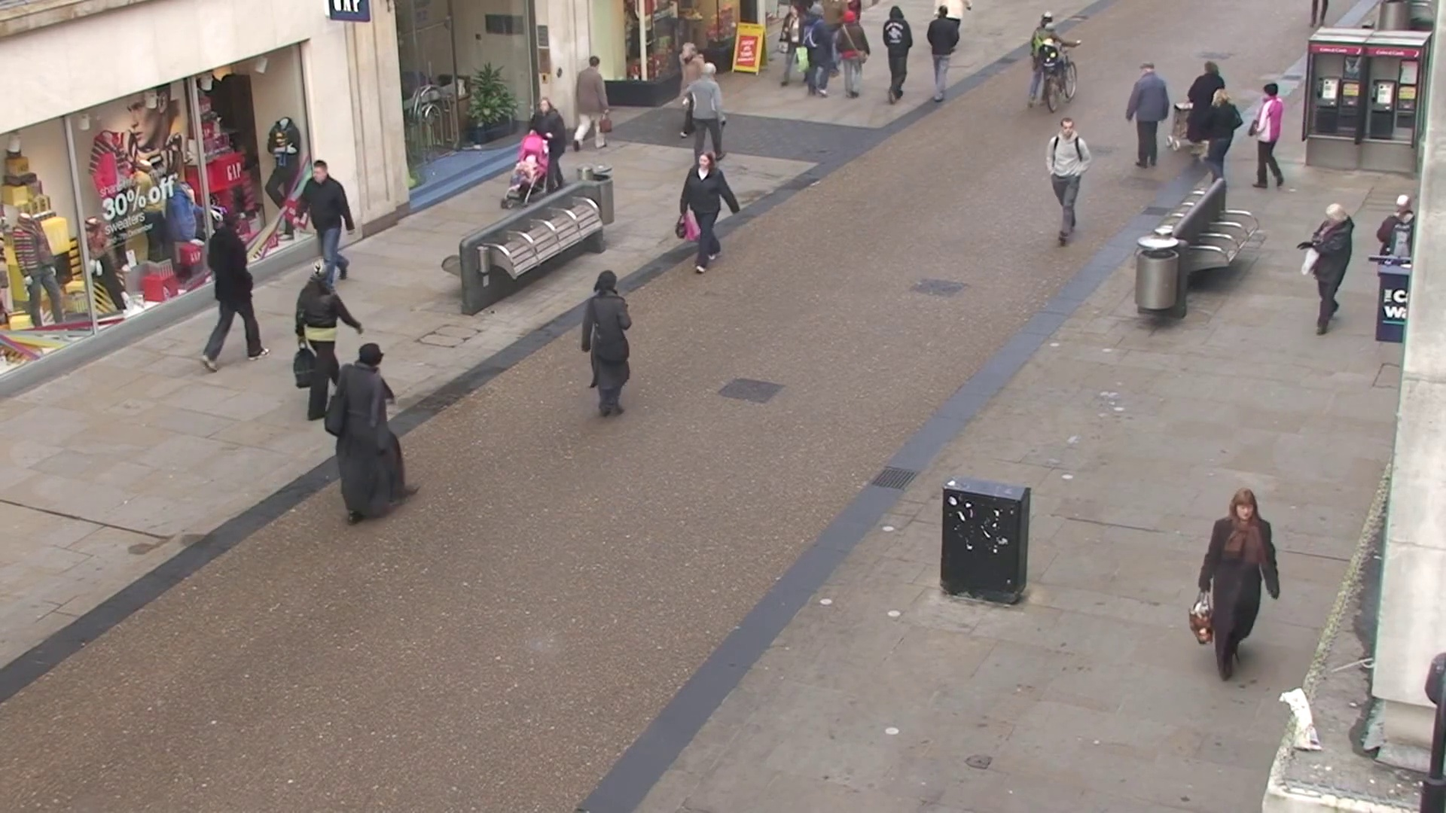person: (1192, 486, 1280, 683), (325, 342, 404, 524), (197, 207, 267, 368), (294, 260, 363, 419), (1004, 21, 1081, 136), (579, 269, 633, 419), (678, 148, 742, 272), (1298, 199, 1356, 335), (296, 159, 354, 284), (1046, 116, 1093, 246), (1124, 63, 1173, 170), (682, 57, 727, 167), (1250, 82, 1289, 190), (573, 54, 614, 147), (803, 2, 840, 97), (834, 2, 870, 99), (927, 2, 962, 99), (510, 129, 551, 205), (882, 5, 913, 102)
